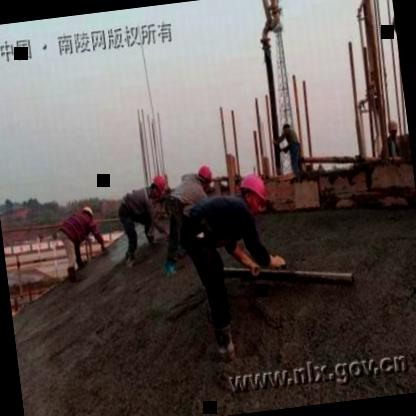helmet: (235, 169, 272, 218), (194, 163, 216, 191), (147, 172, 167, 200), (80, 202, 96, 224)
